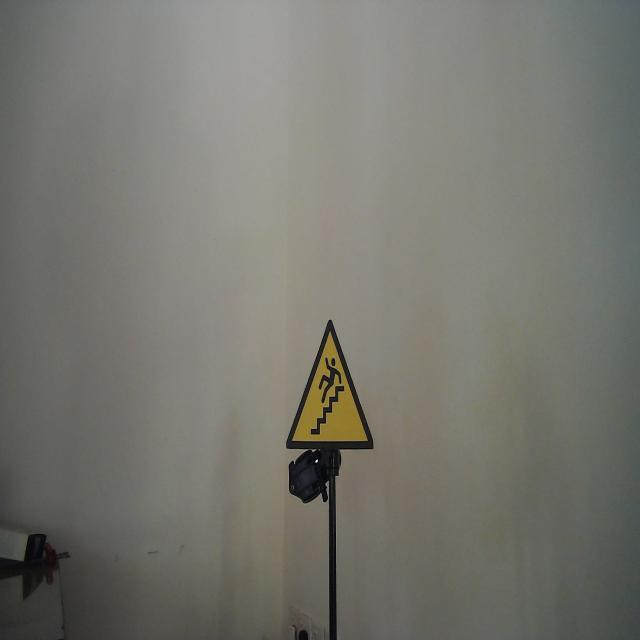stairs: (285, 318, 375, 452)
